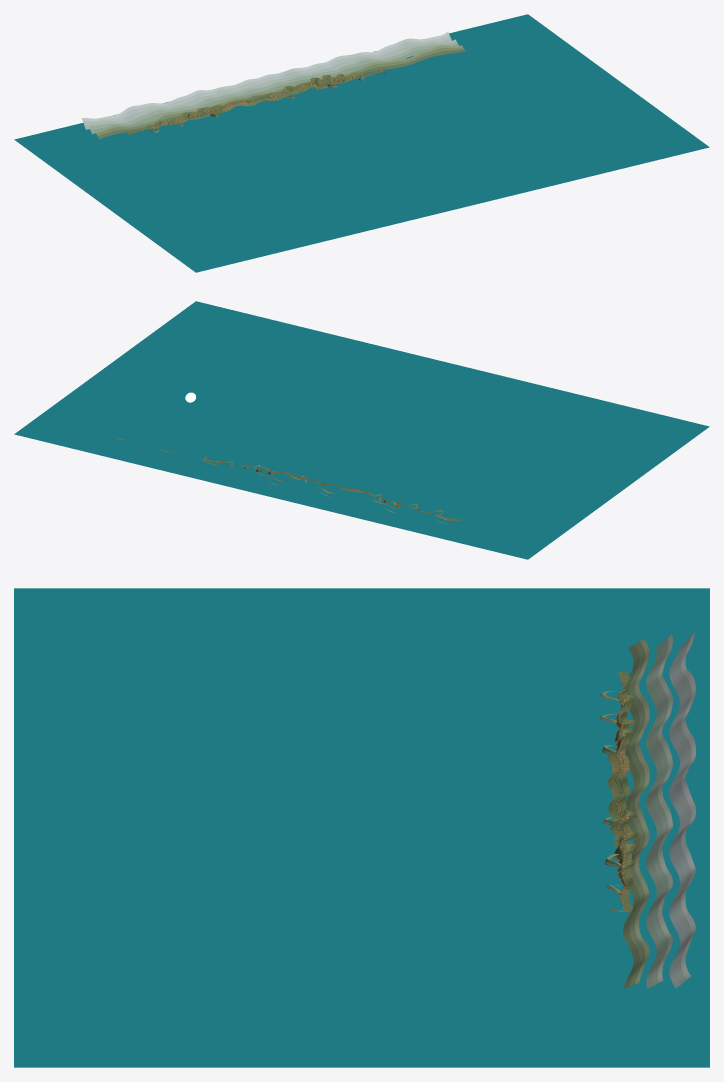
The model's file is cabot.glb.
The picture shows the model from 3 angles, top to bottom: view 1: azimuth 30°, elevation 25°; view 2: azimuth 150°, elevation 25°; view 3: azimuth 270°, elevation 25°; orthographic projection. The views are drawn at different scales.
Parts seen in each view (by area): view 1: Sea, Peaks; view 2: Sea, Peaks; view 3: Sea, Peaks.
Part boxes in pixels (x1,y1,x2,y2): Sea: (14,14,709,272); Peaks: (82,32,465,139); Sea: (14,301,709,559); Peaks: (117,438,455,523); Sea: (14,588,709,1067); Peaks: (600,631,695,988).
Bounding box in the file's own units: 45000 × 3297 × 27600.
